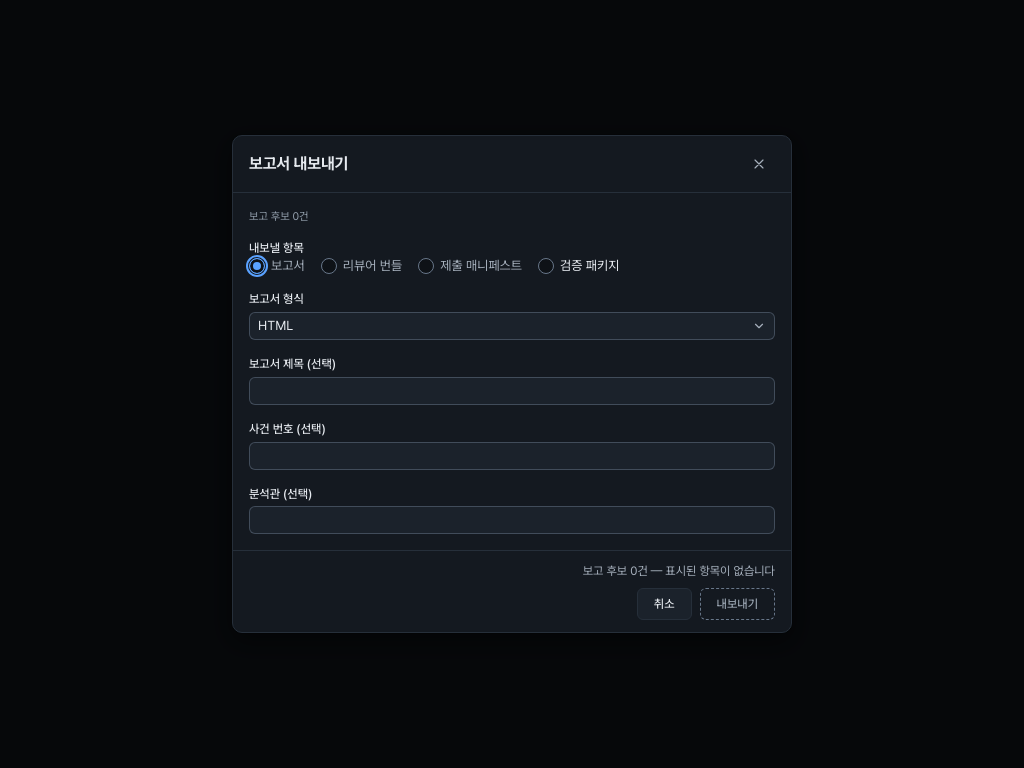
Test: ReportDialog / export commands › disables report exports with 보고 후보 0건 but keeps the validation package
The width and height of the screenshot is (1024, 768).
expect the text "보고 후보 0건" is shown: met, box [249, 210, 309, 223]
expect the radio button labelled "보고서" is checked: met, box [249, 258, 265, 274]
Click the radio button labelled "검증 패키지". click: {"x": 546, "y": 266}
box: [538, 258, 554, 274]
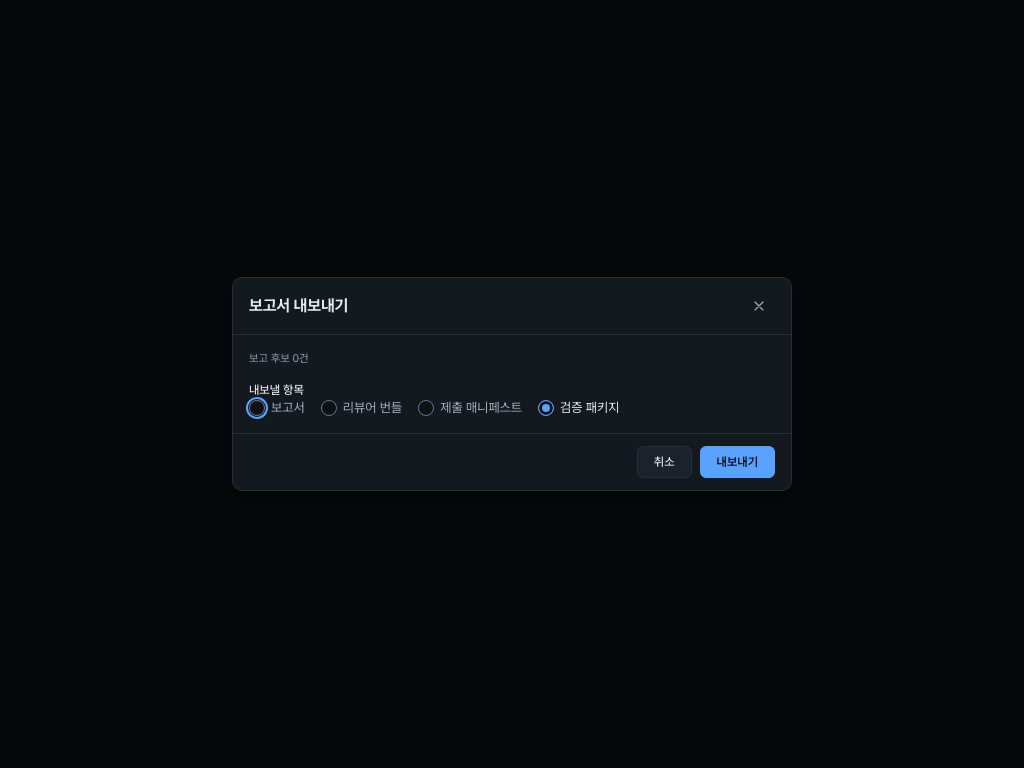
expect the label labelled "보고서 형식" is gone: met
